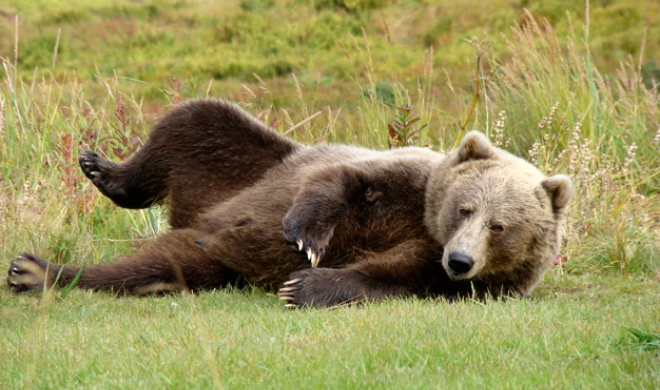bear: (419, 127, 577, 283)
